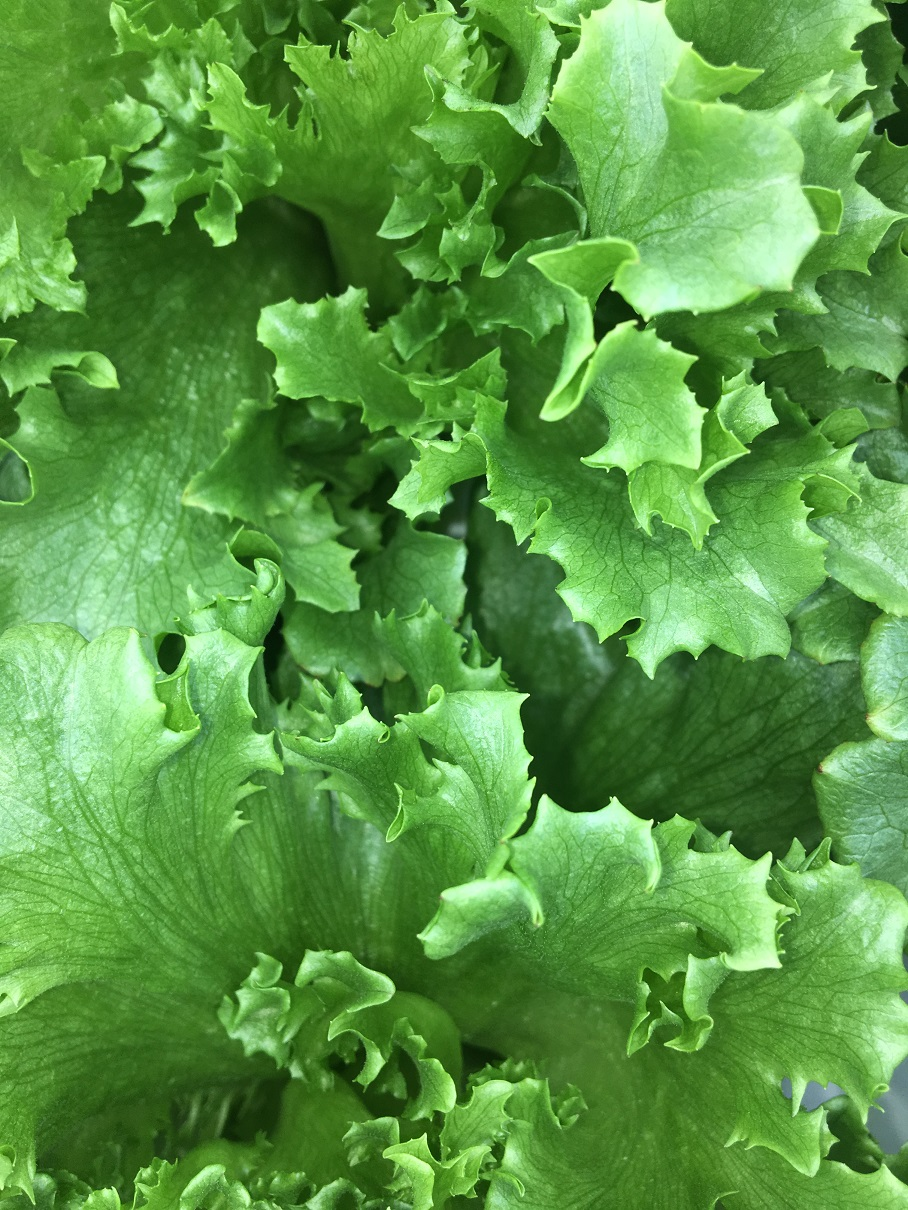tipburn: (800, 745, 843, 787), (786, 79, 831, 115), (848, 699, 886, 739)
